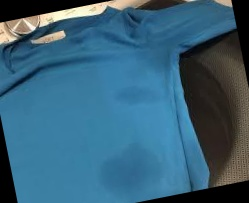oil: (95, 143, 168, 199), (113, 70, 168, 119)
